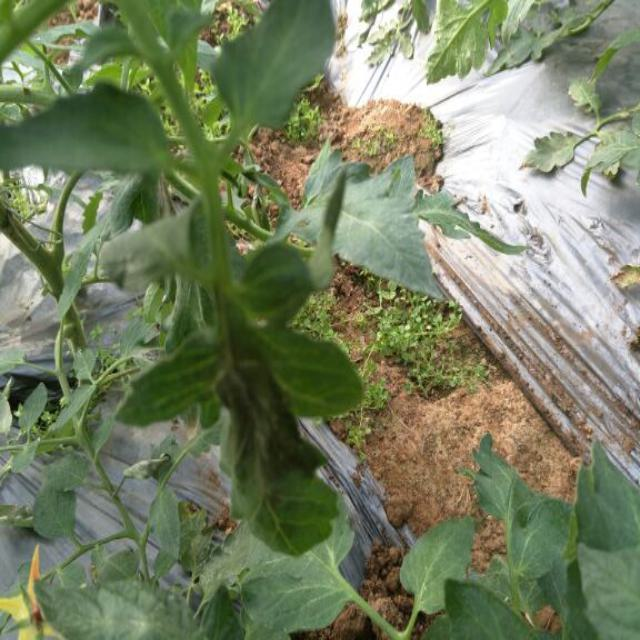Late_blight: (205, 322, 319, 507), (606, 258, 640, 289)
